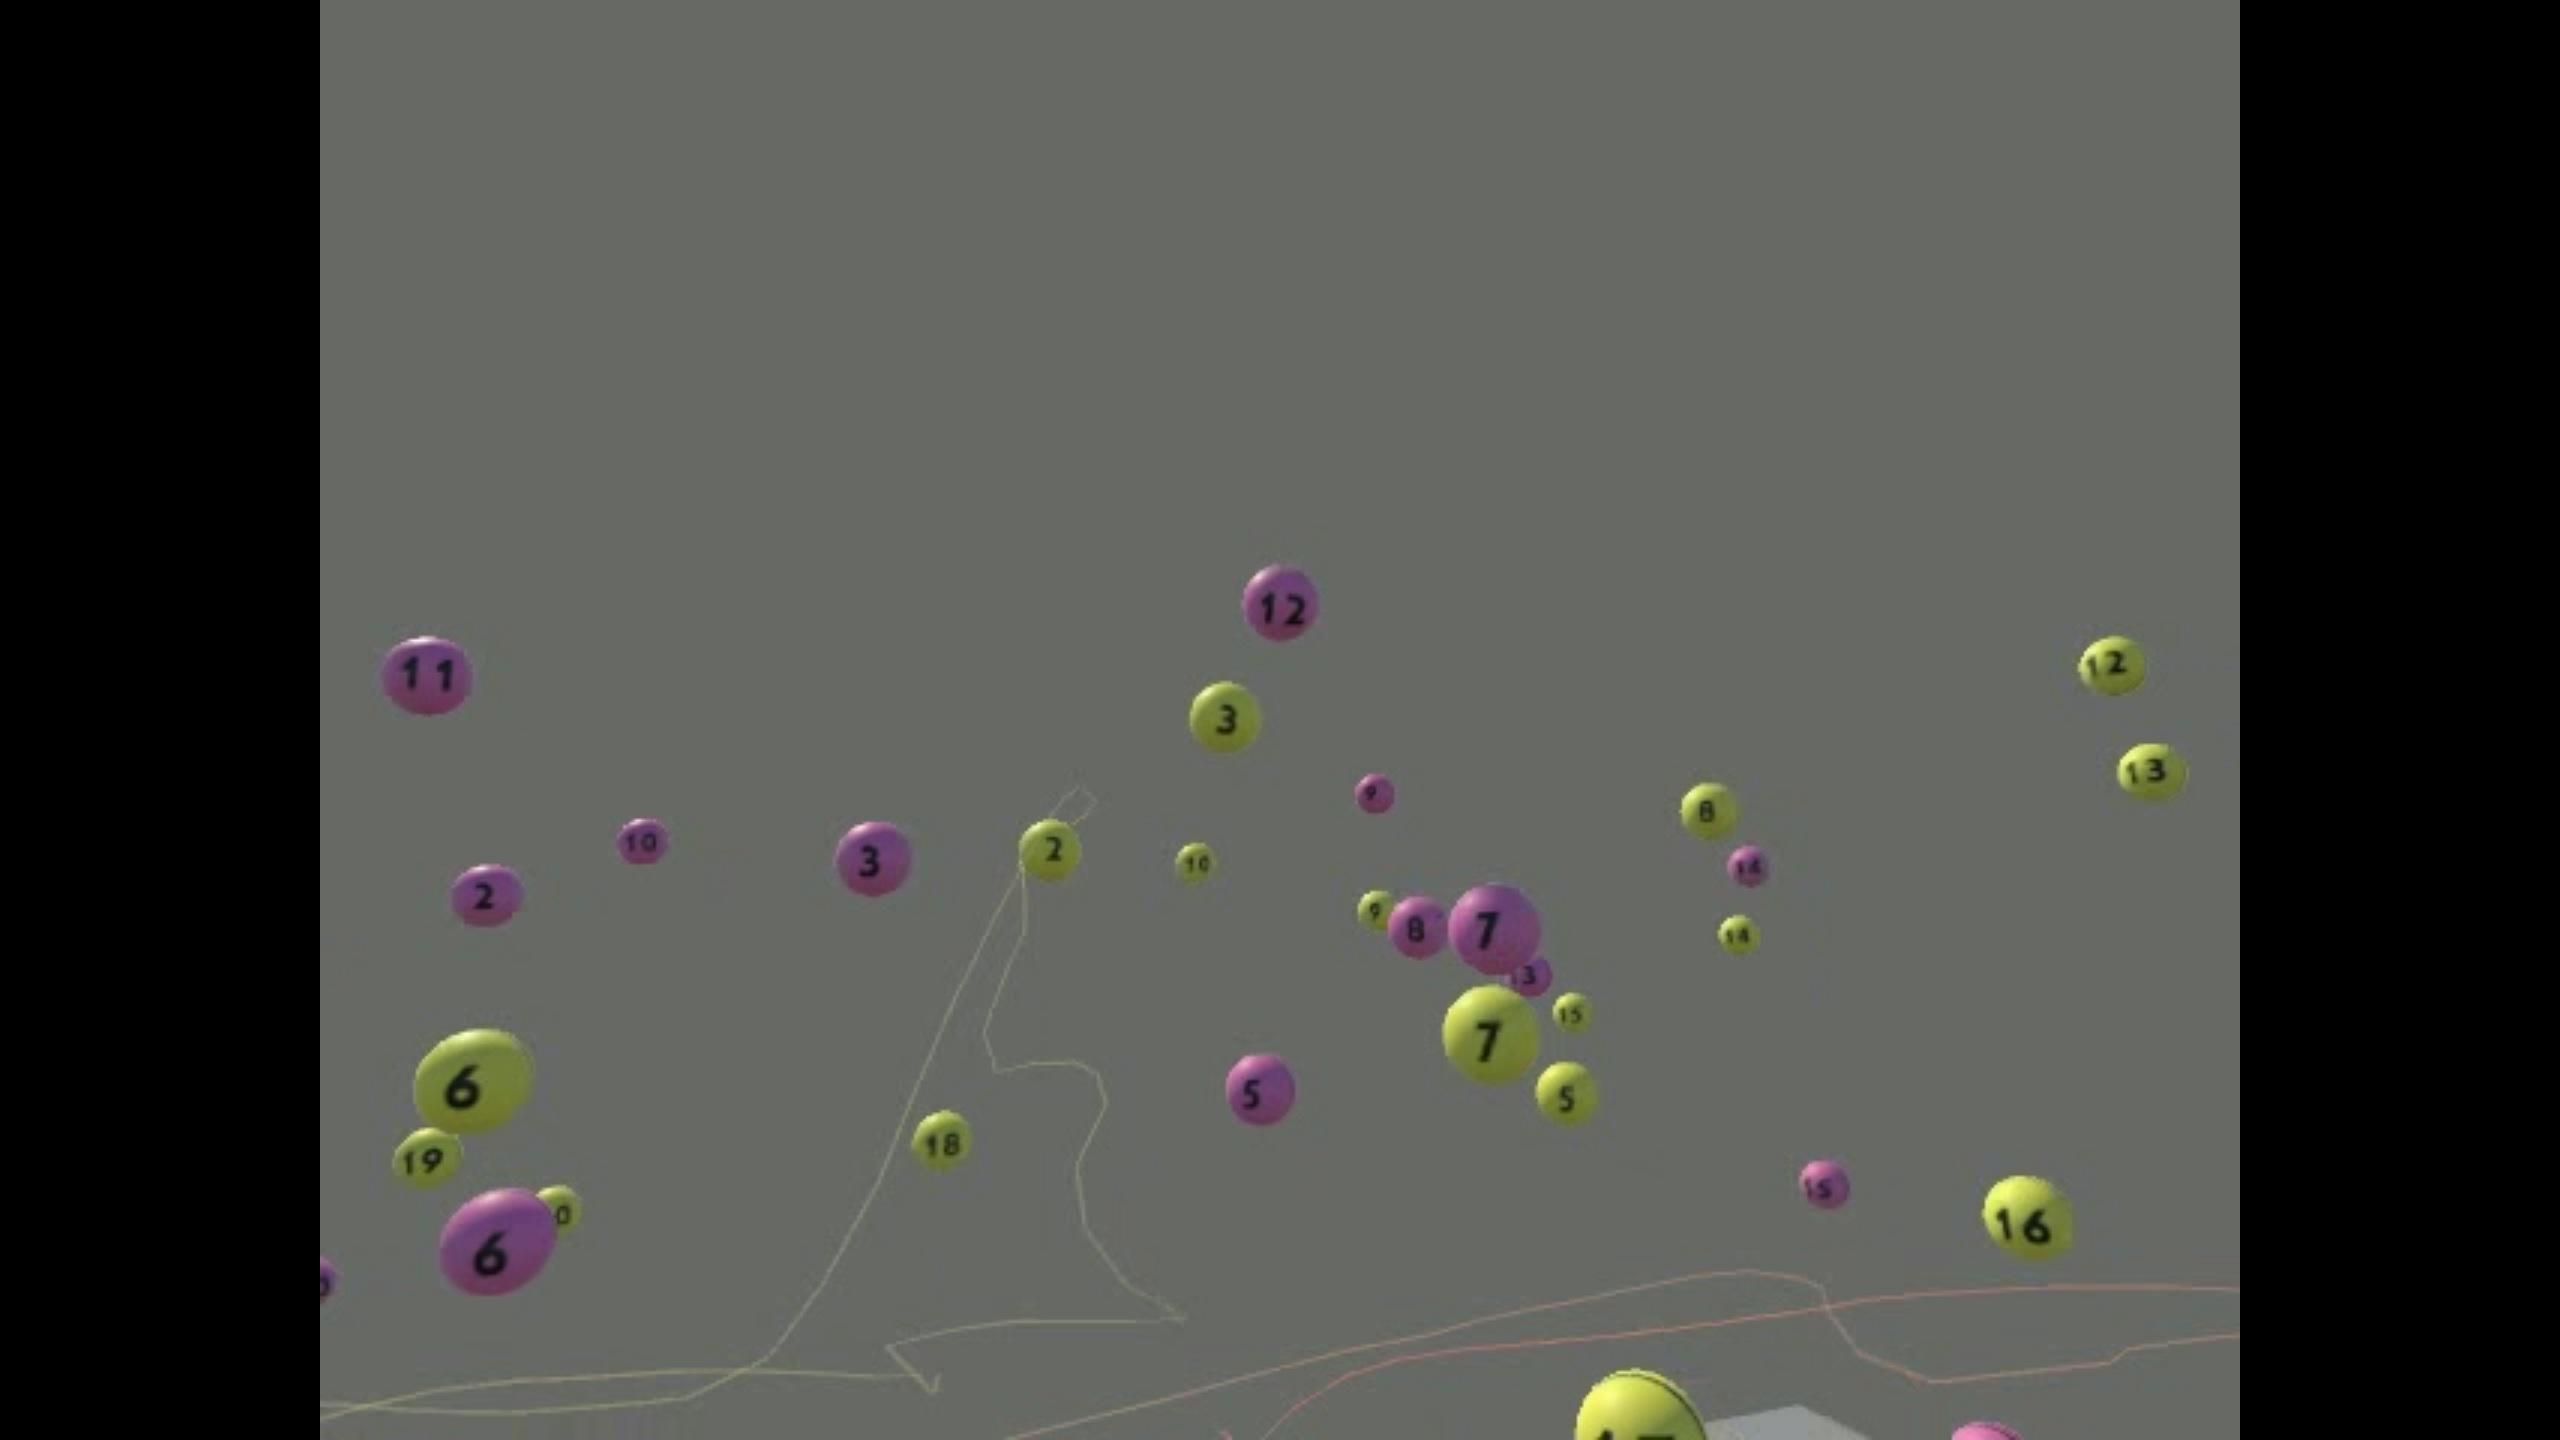ball_02_pink: (450, 863, 524, 927)
ball_02_yellow: (1020, 819, 1081, 879)
ball_03_pink: (835, 823, 911, 897)
ball_03_yellow: (1190, 684, 1262, 753)
ball_05_pink: (1225, 1053, 1296, 1129)
ball_05_yellow: (1535, 1064, 1598, 1125)
ball_06_pink: (438, 1189, 556, 1294)
ball_06_yellow: (413, 1030, 529, 1132)
ball_07_pink: (1449, 883, 1542, 971)
ball_07_yellow: (1442, 986, 1538, 1076)
ball_08_pink: (1389, 897, 1447, 958)
ball_08_yellow: (1679, 782, 1737, 837)
ball_09_pink: (1357, 775, 1394, 814)
ball_10_pink: (617, 819, 665, 867)
ball_10_yellow: (1176, 844, 1215, 879)
ball_11_pink: (378, 635, 471, 714)
ball_12_pink: (1243, 566, 1317, 642)
ball_12_yellow: (2078, 635, 2147, 696)
ball_13_yellow: (2119, 744, 2193, 800)
ball_14_pink: (1727, 846, 1769, 886)
ball_14_yellow: (1718, 916, 1760, 956), (1554, 992, 1593, 1029)
ball_15_pink: (1800, 1160, 1850, 1210)
ball_16_yellow: (1985, 1176, 2071, 1255)
ball_18_yellow: (913, 1111, 971, 1173)
ball_19_yellow: (394, 1129, 462, 1189)
ball_unknown: (1575, 1368, 1702, 1440), (1950, 1417, 2018, 1440), (1509, 958, 1551, 993), (545, 1183, 578, 1225), (1359, 890, 1394, 928), (320, 1254, 338, 1305)
